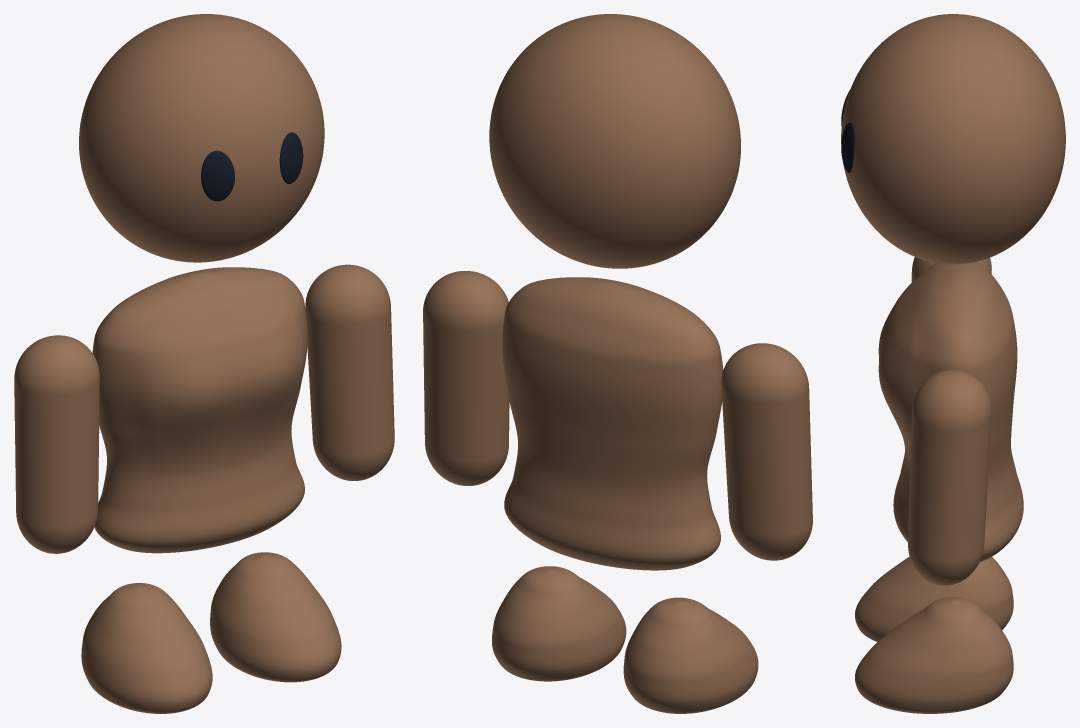
Rendered from Feminine-skin2.glb.
3 views of the same model, side by side, from view 1: azimuth 30°, elevation 25°; view 2: azimuth 150°, elevation 25°; view 3: azimuth 270°, elevation 25° (orthographic). The views are drawn at different scales.
Visible parts, largest first — view 1: Floating torso, Round head, Left floating arm, Right floating arm, Left rounded foot, Right rounded foot, Left optional eye, Right optional eye; view 2: Floating torso, Round head, Left floating arm, Right floating arm, Left rounded foot, Right rounded foot; view 3: Round head, Floating torso, Right floating arm, Right rounded foot, Left rounded foot, Right optional eye, Left floating arm.
Boxes of the visible parts, x1=… form: Floating torso: x1=92, y1=267, x2=307, y2=553; Round head: x1=79, y1=14, x2=324, y2=262; Left floating arm: x1=14, y1=335, x2=99, y2=553; Right floating arm: x1=305, y1=264, x2=394, y2=480; Left rounded foot: x1=81, y1=583, x2=212, y2=713; Right rounded foot: x1=210, y1=552, x2=341, y2=682; Left optional eye: x1=201, y1=150, x2=234, y2=201; Right optional eye: x1=279, y1=132, x2=303, y2=183; Floating torso: x1=502, y1=277, x2=723, y2=570; Round head: x1=489, y1=14, x2=740, y2=268; Left floating arm: x1=721, y1=343, x2=812, y2=560; Right floating arm: x1=423, y1=271, x2=509, y2=485; Left rounded foot: x1=623, y1=597, x2=758, y2=713; Right rounded foot: x1=492, y1=566, x2=626, y2=681; Round head: x1=841, y1=14, x2=1065, y2=264; Floating torso: x1=878, y1=261, x2=1023, y2=561; Right floating arm: x1=908, y1=369, x2=991, y2=585; Right rounded foot: x1=855, y1=596, x2=1013, y2=713; Left rounded foot: x1=855, y1=556, x2=1013, y2=641; Right optional eye: x1=841, y1=122, x2=854, y2=172; Left floating arm: x1=911, y1=257, x2=991, y2=282.
Bounding box in the file's own units: 1.66 × 2.78 × 0.88.
